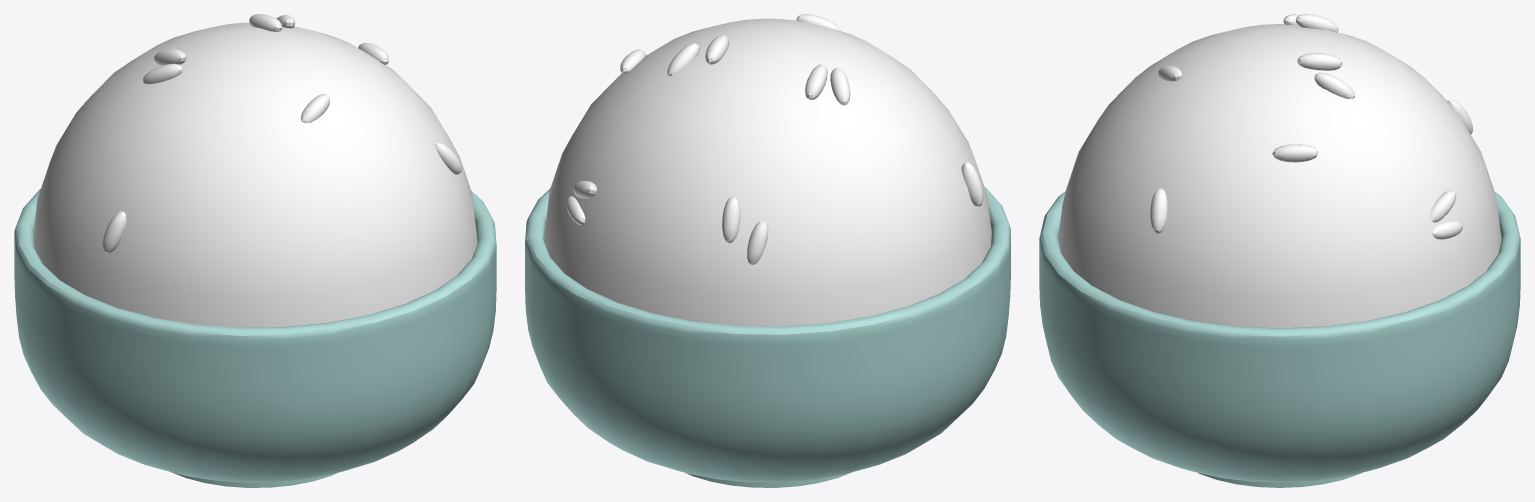
Rendered from cooked_rice.fbx.
3 renders of one model, left to right at view 1: azimuth 30°, elevation 25°; view 2: azimuth 150°, elevation 25°; view 3: azimuth 270°, elevation 25°, orthographic.
Visible parts, largest first — view 1: Cube.418; view 2: Cube.418; view 3: Cube.418.
Boxes of the visible parts, box(x1,y1,x2,y2) form: Cube.418: box(14, 14, 496, 487); Cube.418: box(525, 14, 1010, 487); Cube.418: box(1039, 14, 1520, 487).
Bounding box in the file's own units: 221 × 203 × 221.
1 material, 1 textured.
